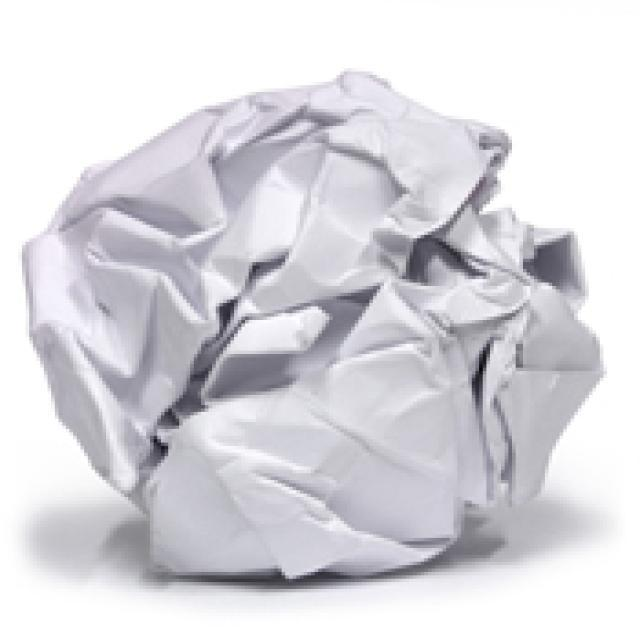Paper: (22, 68, 607, 586)
